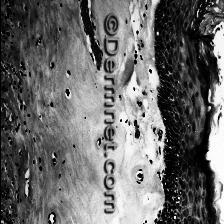Non-Cancerous Skin Condition: (1, 61, 96, 224), (142, 47, 212, 224), (0, 0, 214, 11)
